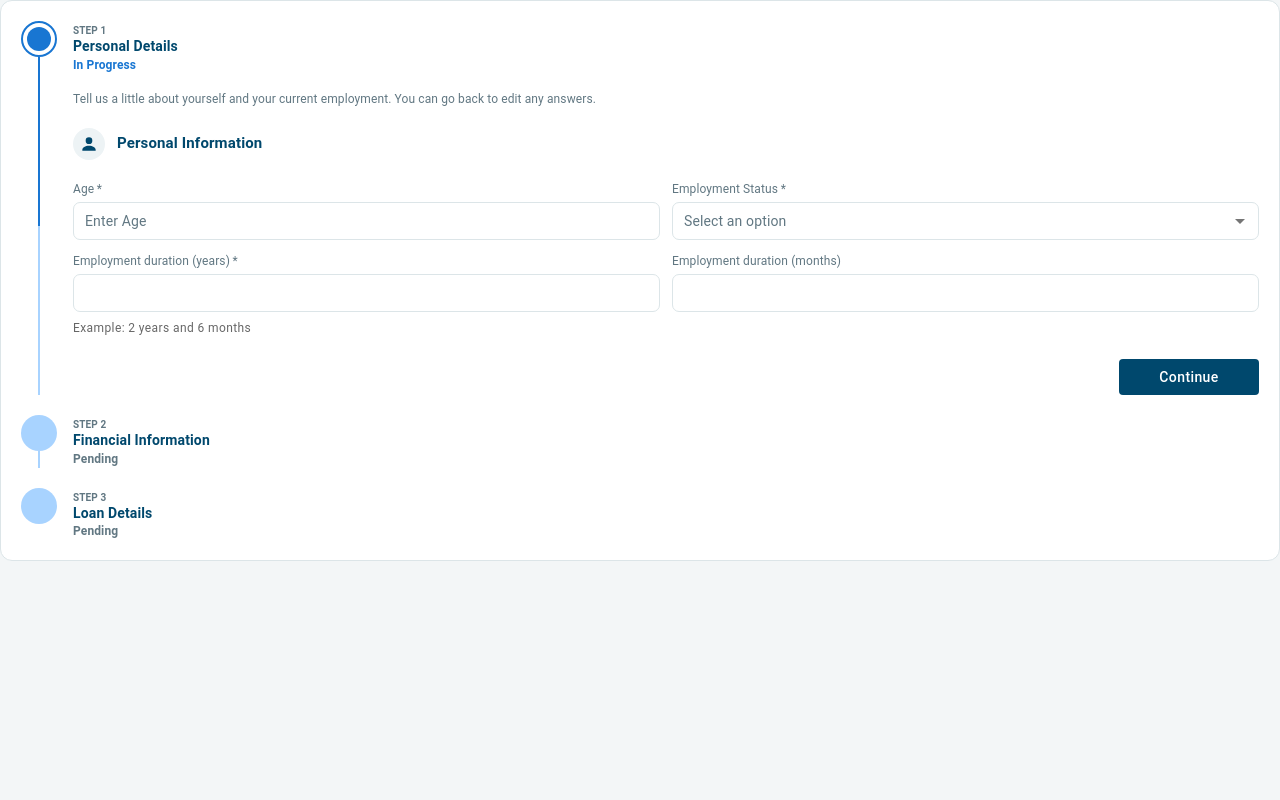
Test: Loan Eligibility Page Form › uses the server-provided bounds and message for field validation
The image size is (1280, 800).
Type "20" into the number field labelled "Age" at (366, 221), box [73,202,660,240]
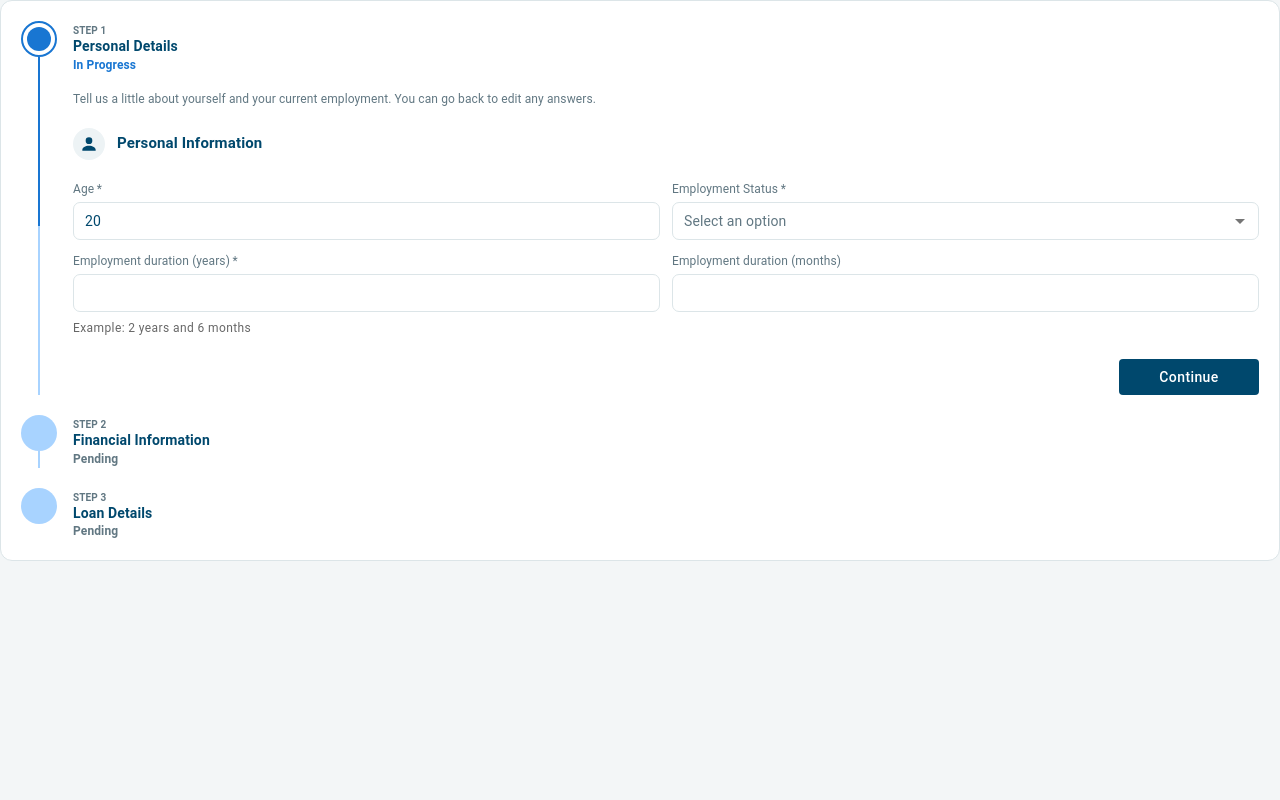
Submit the form named "Loan eligibility application"
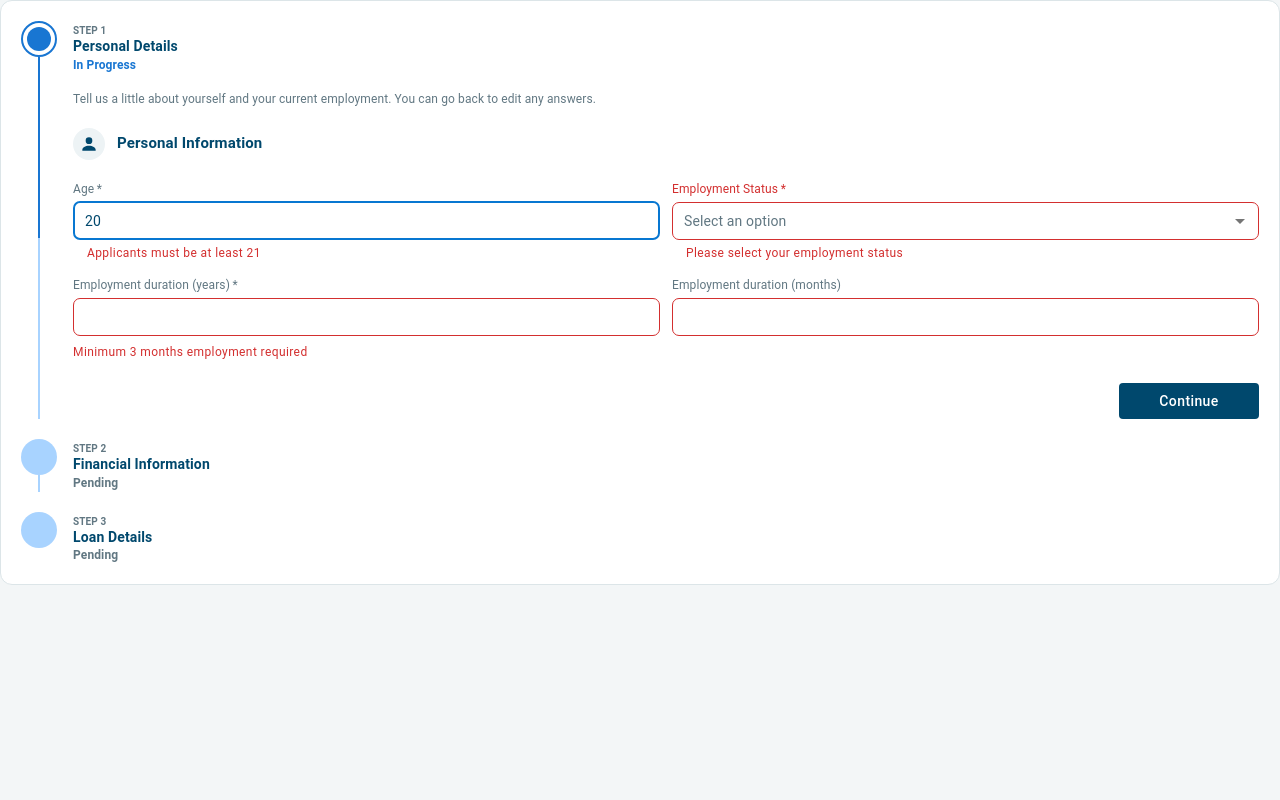
Result: the text "Applicants must be at least 21" is shown at [87,246,261,260]
